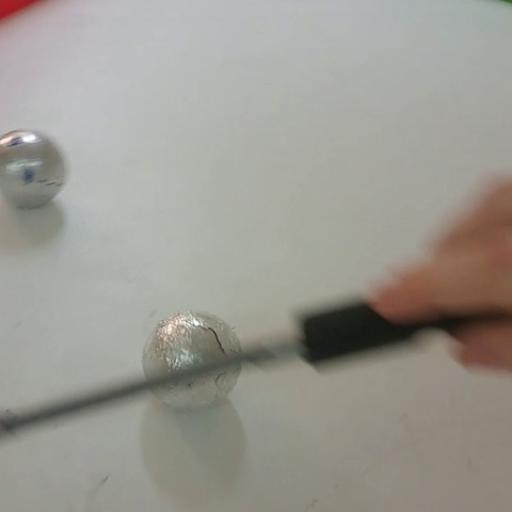alive: (140, 309, 246, 412), (0, 125, 70, 212)
